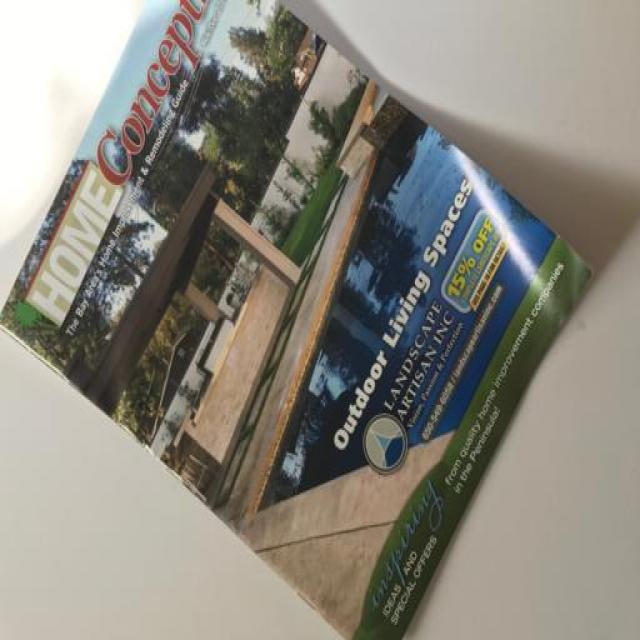paper: (55, 19, 569, 629)
